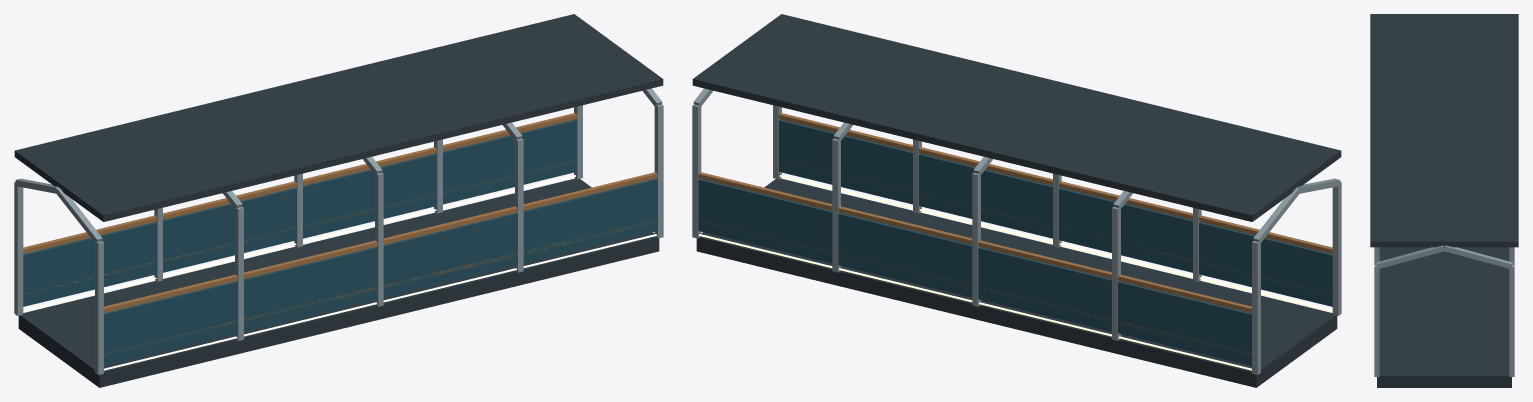
Rendered from skybridge.lod2.glb.
3 renders of one model, left to right at view 1: azimuth 30°, elevation 25°; view 2: azimuth 150°, elevation 25°; view 3: azimuth 270°, elevation 25°, orthographic. The views are drawn at different scales.
Visible parts, largest first — view 1: structure; view 2: structure; view 3: structure.
Boxes of the visible parts, left/top/right/bottom form: structure: left=14, top=14, right=663, bottom=387; structure: left=692, top=14, right=1341, bottom=387; structure: left=1370, top=14, right=1518, bottom=387.
Bounding box in the file's own units: 16.16 × 4.79 × 4.4.
